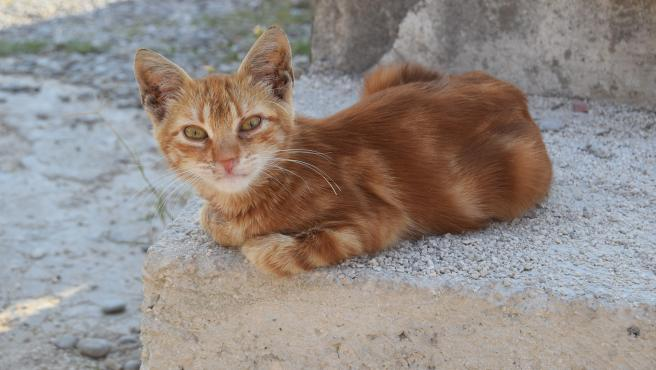cat: (103, 24, 560, 282)
